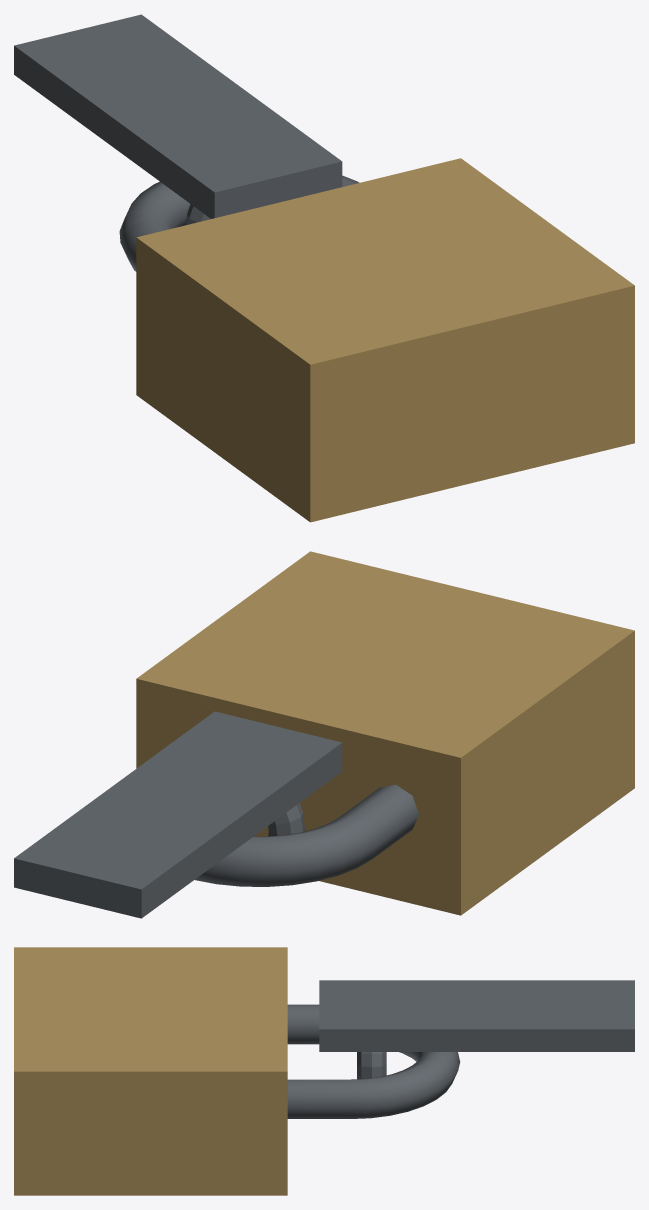
Rendered from padlock.glb.
3 views of the same model, one above another, from view 1: azimuth 30°, elevation 25°; view 2: azimuth 150°, elevation 25°; view 3: azimuth 270°, elevation 25° (orthographic). The views are drawn at different scales.
Visible parts, largest first — view 1: Brass padlock body, Hasp mounting strap, Closed iron shackle; view 2: Brass padlock body, Hasp mounting strap, Closed iron shackle, Hasp staple; view 3: Brass padlock body, Hasp mounting strap, Closed iron shackle, Hasp staple.
Boxes of the visible parts, <box> form: Brass padlock body: <box>136,158,634,522</box>; Hasp mounting strap: <box>14,14,342,218</box>; Closed iron shackle: <box>119,175,359,271</box>; Brass padlock body: <box>136,551,634,915</box>; Hasp mounting strap: <box>14,711,342,918</box>; Closed iron shackle: <box>195,784,418,886</box>; Hasp staple: <box>268,803,304,836</box>; Brass padlock body: <box>14,947,287,1195</box>; Hasp mounting strap: <box>319,980,634,1051</box>; Closed iron shackle: <box>287,1004,460,1118</box>; Hasp staple: <box>357,1052,386,1079</box>.
Size of the model in its own units: 0.14 by 0.076 by 0.295.
